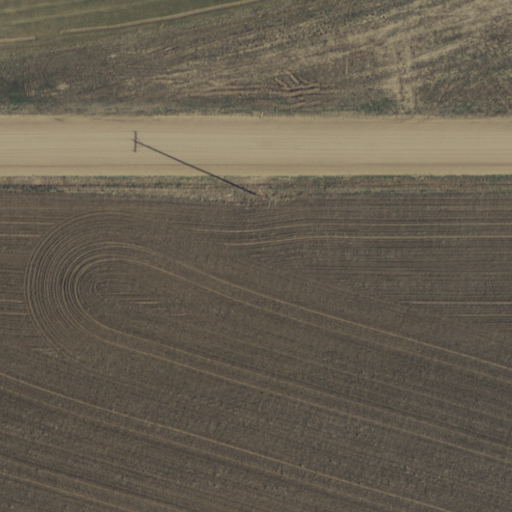DT: (253, 184, 279, 208)
